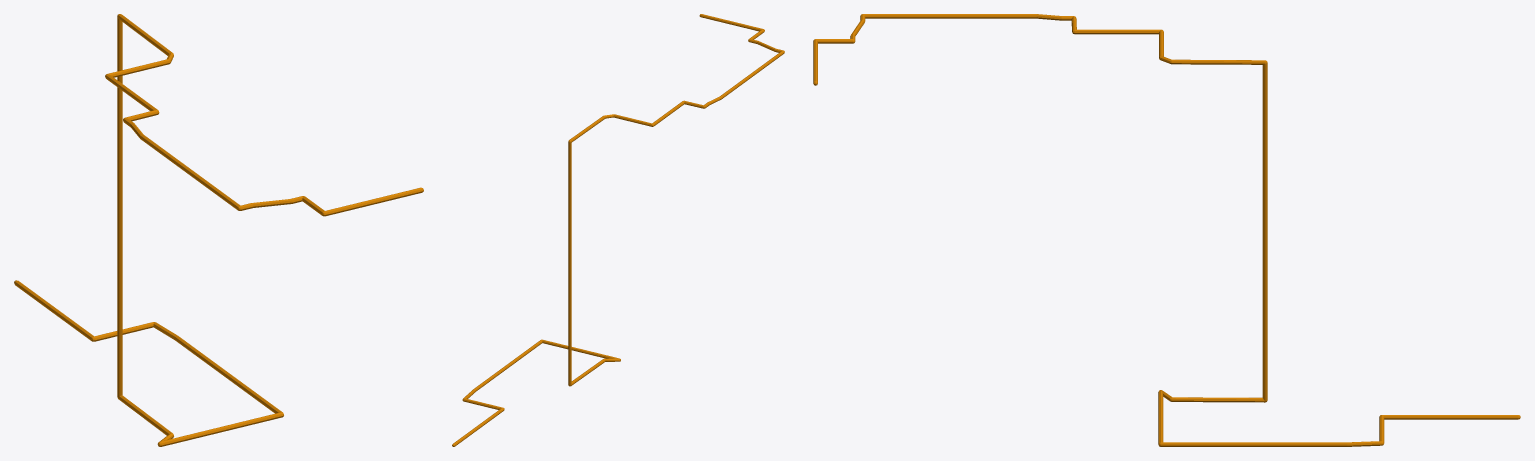
The picture shows the model from 3 angles, left to right: view 1: azimuth 30°, elevation 25°; view 2: azimuth 150°, elevation 25°; view 3: azimuth 270°, elevation 25°; orthographic projection. The views are drawn at different scales.
Size of the model in its own units: 885 by 1520 by 2850.
